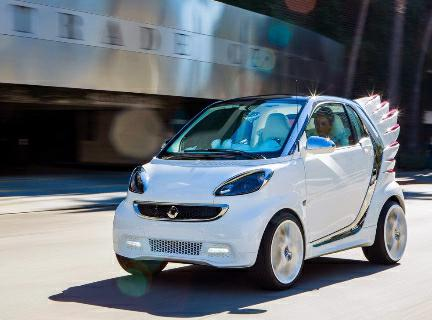smart-forjeremy: (106, 92, 413, 291)
